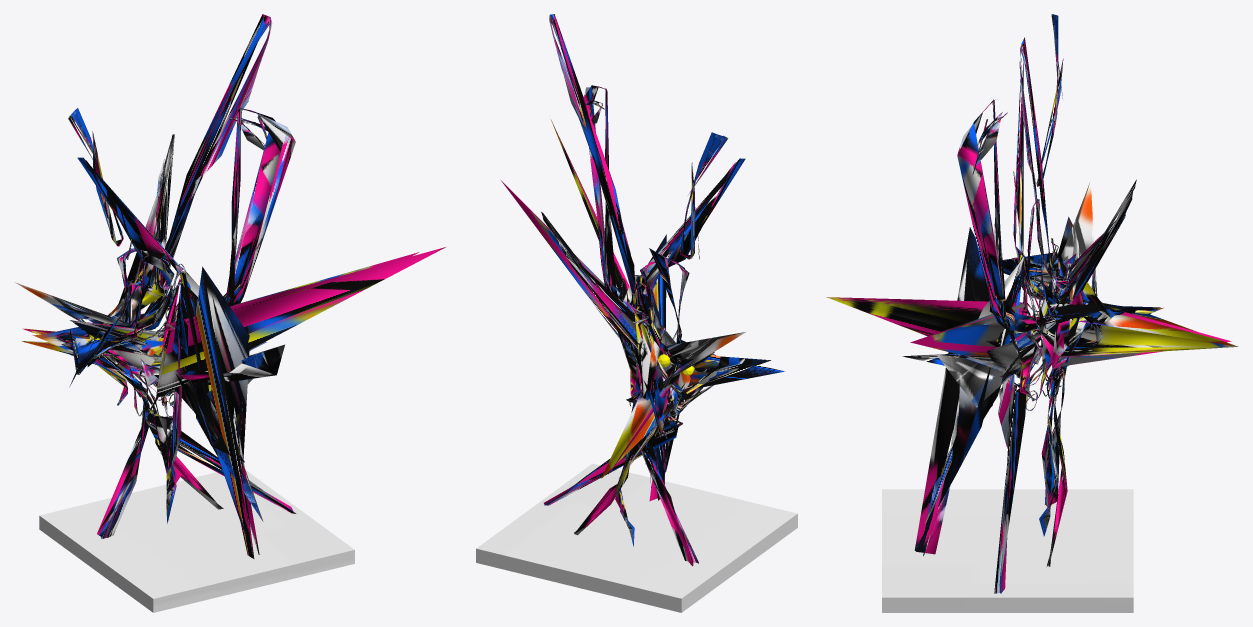
Rendered from LEGEND-v103.glb.
3 views of the same model, side by side, from view 1: azimuth 30°, elevation 25°; view 2: azimuth 150°, elevation 25°; view 3: azimuth 270°, elevation 25° (orthographic). The views are drawn at different scales.
Parts seen in each view (by area): view 1: LEGEND; view 2: LEGEND; view 3: LEGEND.
Boxes of the visible parts, <box> form: LEGEND: <box>15,14,446,612</box>; LEGEND: <box>476,14,797,612</box>; LEGEND: <box>826,14,1238,612</box>.
Bounding box in the file's own units: 12 × 18 × 12.
Materials: 1 (1 with a texture image).
